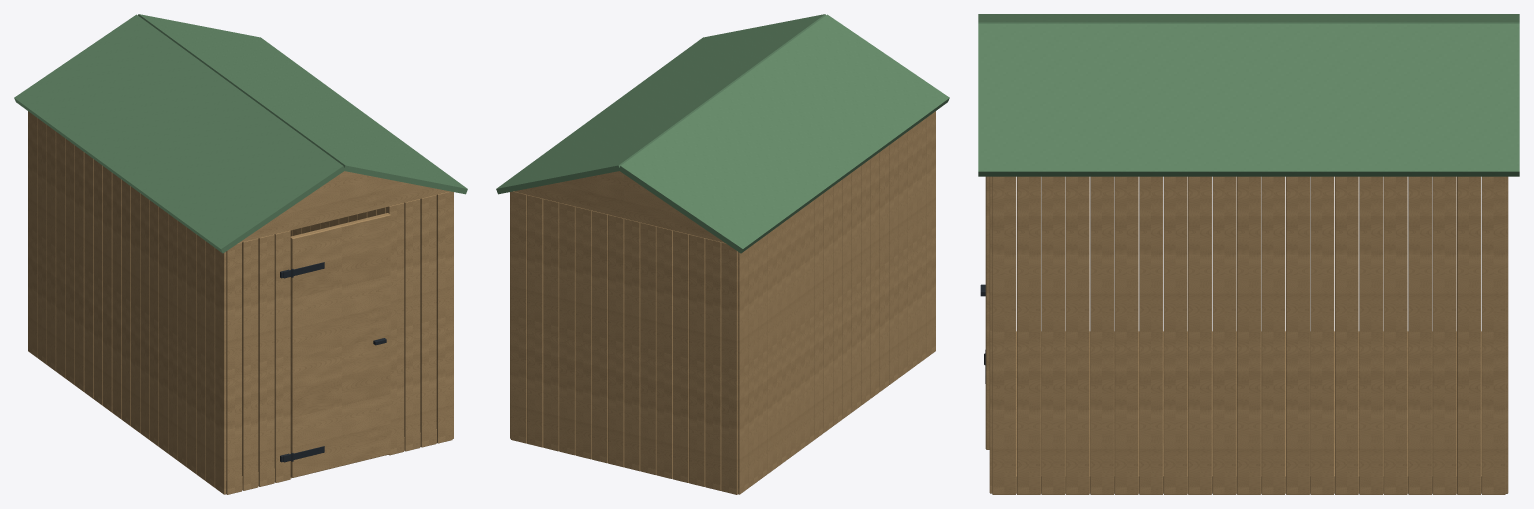
Rendered from garden_shed.glb.
3 renders of one model, left to right at view 1: azimuth 30°, elevation 25°; view 2: azimuth 150°, elevation 25°; view 3: azimuth 270°, elevation 25°, orthographic. The views are drawn at different scales.
Parts seen in each view (by area): view 1: Shed roof panel, Shed original access door, Shed roof panel.001, Shed gable infill, Front enclosure board.001, Front enclosure board.005, Front enclosure board.006, Front enclosure board.002, Front enclosure board.007, Front enclosure board.003, Front enclosure board, Front enclosure board.004 (+22 smaller); view 2: Shed roof panel, Shed roof panel.001, Shed gable infill.001, Rear vertical board.001, Rear vertical board.006, Rear vertical board.005, Rear vertical board.008, Rear vertical board.009, Rear vertical board.010, Rear vertical board.002, Rear vertical board.004, Rear vertical board.007 (+26 smaller); view 3: Shed roof panel.001, Side vertical timber board.021, Side vertical timber board.023, Side vertical timber board.026, Side vertical timber board.028, Side vertical timber board.030, Side vertical timber board.032, Side vertical timber board.034, Side vertical timber board.036, Side vertical timber board.039, Side vertical timber board.041, Side vertical timber board.024 (+15 smaller).
Boxes of the visible parts, x1,y1,x2,y2 form: Shed roof panel: [14, 14, 344, 253]; Shed original access door: [290, 213, 390, 477]; Shed roof panel.001: [138, 14, 467, 194]; Shed gable infill: [239, 171, 450, 242]; Front enclosure board.001: [242, 238, 258, 490]; Front enclosure board.005: [404, 199, 420, 451]; Front enclosure board.006: [420, 195, 436, 447]; Front enclosure board.002: [258, 234, 274, 486]; Front enclosure board.007: [436, 191, 452, 443]; Front enclosure board.003: [274, 230, 290, 482]; Front enclosure board: [226, 242, 241, 494]; Front enclosure board.004: [387, 203, 404, 455]; Shed roof panel: [618, 14, 949, 253]; Shed roof panel.001: [496, 14, 825, 194]; Shed gable infill.001: [514, 171, 724, 242]; Rear vertical board.001: [705, 238, 721, 490]; Rear vertical board.006: [624, 218, 640, 471]; Rear vertical board.005: [640, 222, 656, 474]; Rear vertical board.008: [591, 210, 607, 463]; Rear vertical board.009: [575, 207, 591, 459]; Rear vertical board.010: [559, 202, 575, 455]; Rear vertical board.002: [689, 234, 705, 486]; Rear vertical board.004: [656, 226, 672, 478]; Rear vertical board.007: [608, 214, 624, 467]; Shed roof panel.001: [978, 23, 1519, 176]; Side vertical timber board.021: [992, 176, 1016, 494]; Side vertical timber board.023: [1041, 176, 1065, 494]; Side vertical timber board.026: [1114, 176, 1138, 494]; Side vertical timber board.028: [1163, 176, 1187, 494]; Side vertical timber board.030: [1212, 176, 1236, 494]; Side vertical timber board.032: [1261, 176, 1285, 494]; Side vertical timber board.034: [1310, 176, 1334, 494]; Side vertical timber board.036: [1359, 176, 1383, 494]; Side vertical timber board.039: [1432, 176, 1456, 494]; Side vertical timber board.041: [1481, 176, 1505, 494]; Side vertical timber board.024: [1065, 176, 1089, 494].
Bounding box in the file's own units: 2.18 × 2.57 × 3.16.
3 materials, 3 textured.
